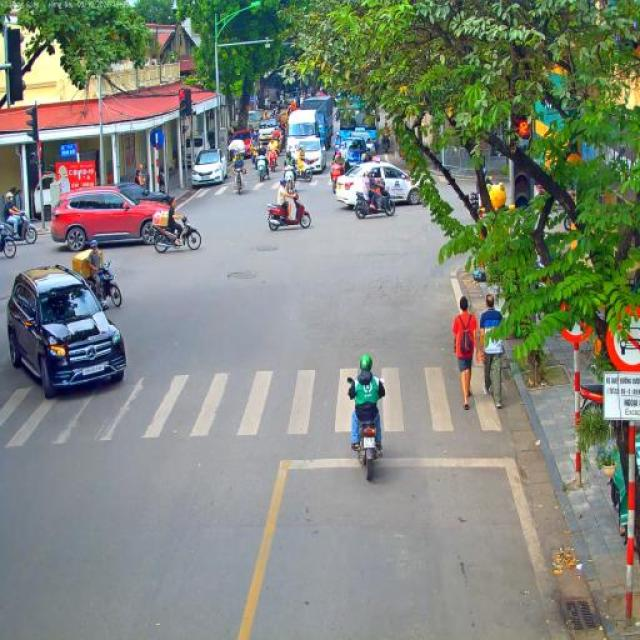car: (6, 263, 129, 401), (49, 187, 170, 253), (336, 156, 426, 210), (108, 181, 177, 208), (28, 171, 64, 221), (191, 148, 228, 187), (293, 135, 327, 173), (348, 128, 374, 160), (340, 138, 368, 166), (258, 118, 280, 142), (245, 111, 261, 137)
motorcycle: (347, 376, 382, 483), (148, 213, 202, 254), (266, 189, 312, 232), (88, 259, 123, 311), (352, 187, 396, 219), (0, 210, 38, 244), (576, 382, 605, 418), (0, 222, 18, 259), (330, 163, 346, 194), (252, 154, 269, 182), (231, 165, 245, 195), (282, 164, 296, 194), (294, 160, 312, 182), (266, 148, 279, 173), (384, 134, 390, 154), (252, 144, 258, 164)
truck: (336, 96, 378, 146), (284, 109, 322, 155), (302, 96, 338, 140), (228, 130, 252, 160)
